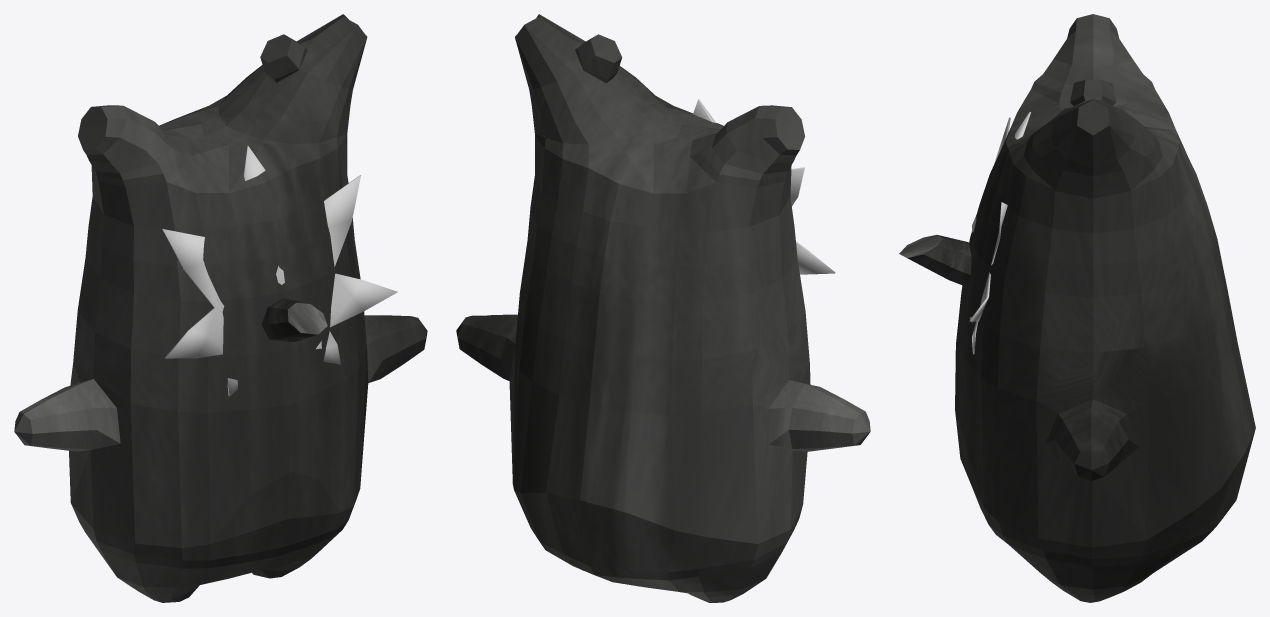
The model's file is frame_0017.obj.
The picture shows the model from 3 angles, left to right: view 1: azimuth 30°, elevation 25°; view 2: azimuth 150°, elevation 25°; view 3: azimuth 270°, elevation 25°; orthographic projection.
Visible parts, largest first — view 1: korok, leaf.003_柱体.013, nose.003_柱体.011; view 2: korok, leaf.003_柱体.013; view 3: korok, nose.003_柱体.011, leaf.003_柱体.013.
Boxes of the visible parts, x1,y1,x2,y2 form: korok: (14,14,427,602); leaf.003_柱体.013: (162,145,397,396); nose.003_柱体.011: (261,298,327,342); korok: (456,14,870,602); leaf.003_柱体.013: (693,99,835,274); korok: (955,14,1255,602); nose.003_柱体.011: (899,235,971,286); leaf.003_柱体.013: (969,112,1030,354).
Size of the model in its own units: 1.87 by 2.34 by 1.41.
